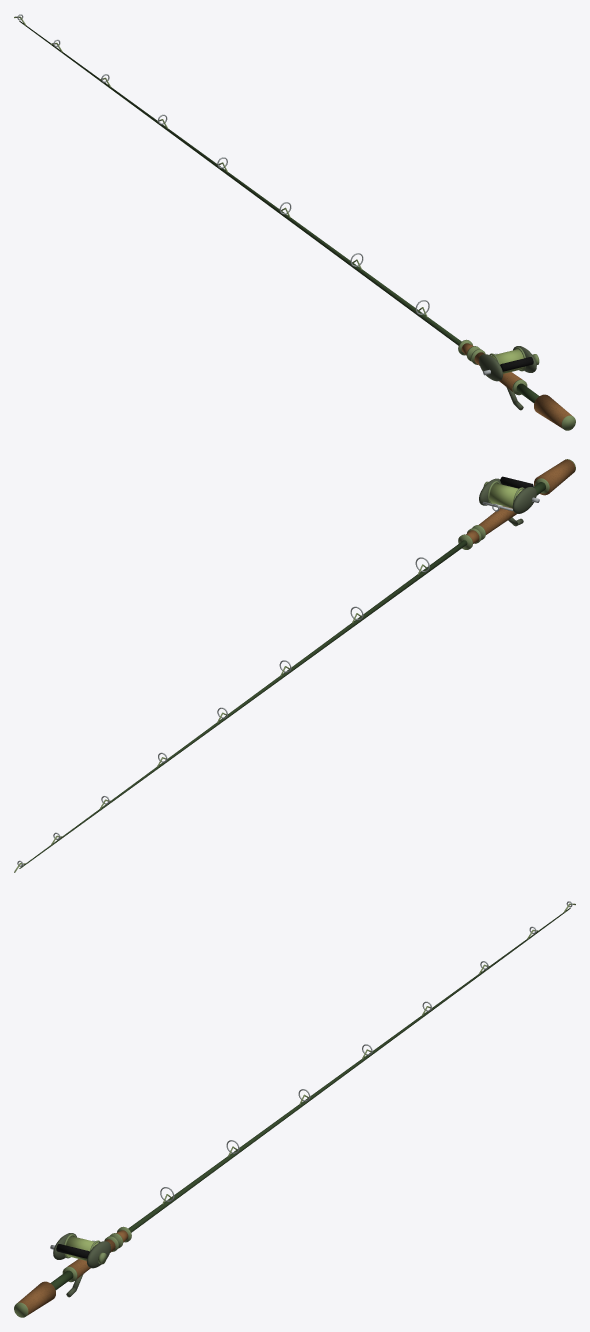
File: willow_lure.glb
3 renders of one model, top to bottom at view 1: azimuth 30°, elevation 25°; view 2: azimuth 150°, elevation 25°; view 3: azimuth 330°, elevation 25°, orthographic.
Visible parts, largest first — view 1: Fast action blank.004; view 2: Fast action blank.004; view 3: Fast action blank.004.
Part boxes in pixels (left/top/right/bottom): Fast action blank.004: left=14, top=14, right=575, bottom=430; Fast action blank.004: left=14, top=459, right=575, bottom=872; Fast action blank.004: left=14, top=901, right=575, bottom=1317.
Size of the model in its own units: 0.106 by 0.0943 by 1.94.
7 materials, 2 textured.
